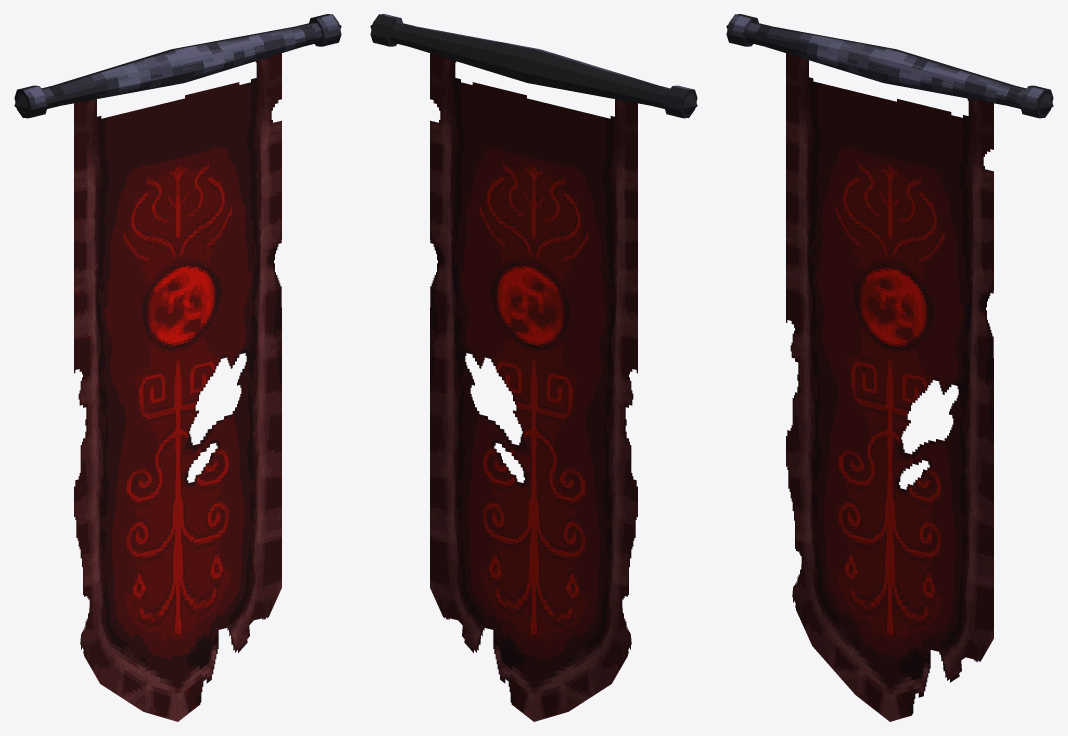
The model's file is banner.glb.
3 views of the same model, side by side, from view 1: azimuth 30°, elevation 25°; view 2: azimuth 150°, elevation 25°; view 3: azimuth 330°, elevation 25° (orthographic).
Parts seen in each view (by area): view 1: banner; view 2: banner; view 3: banner.
Part boxes in pixels (x1,y1,x2,y2): banner: (14, 14, 341, 721); banner: (370, 14, 697, 721); banner: (726, 14, 1053, 721).
Size of the model in its own units: 1.77 by 3.48 by 0.176.
1 material, 1 textured.
